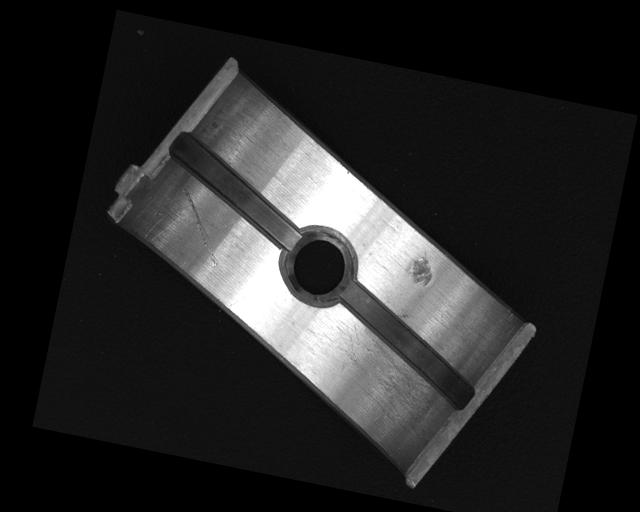bruise: (406, 247, 437, 287)
gap: (322, 278, 491, 412), (156, 129, 316, 252)
hole: (278, 221, 361, 310)
nick: (169, 187, 232, 268)
scratch: (319, 315, 448, 438)
